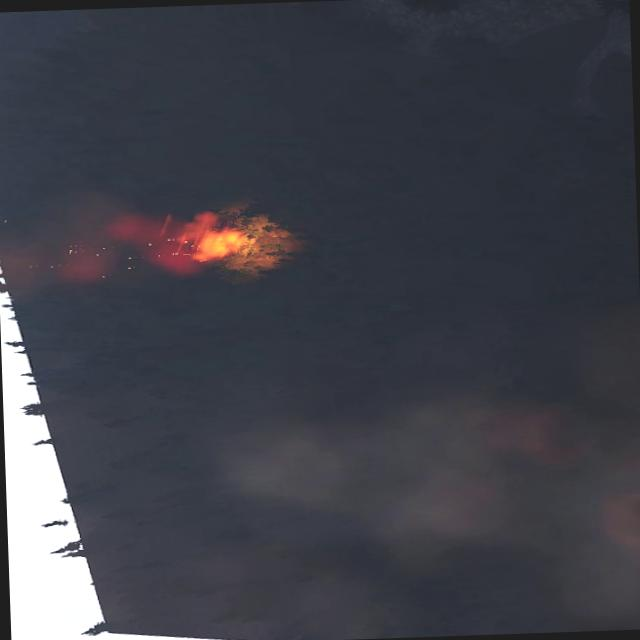fire: (128, 210, 250, 272)
smoke: (201, 356, 640, 639), (0, 187, 208, 293)
